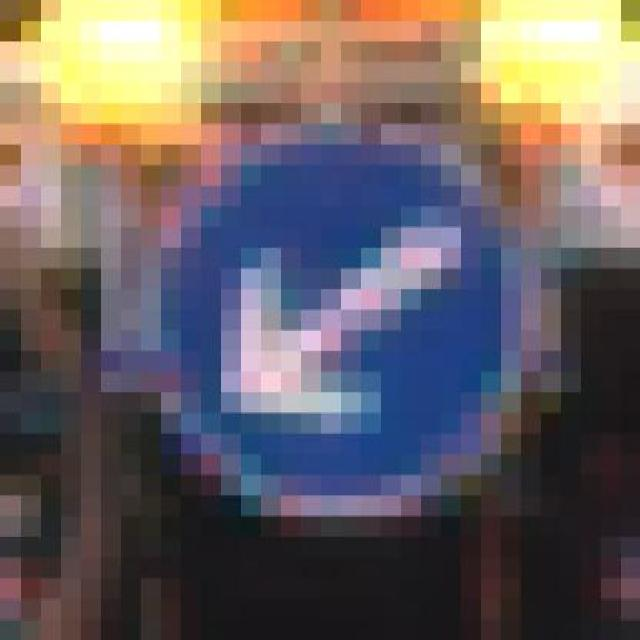Keep-Left: (120, 124, 560, 558)
